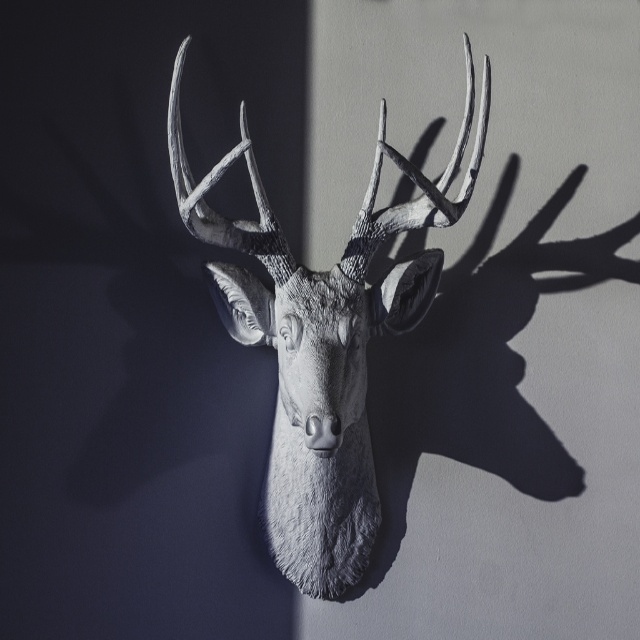Deer: (168, 32, 491, 600)
